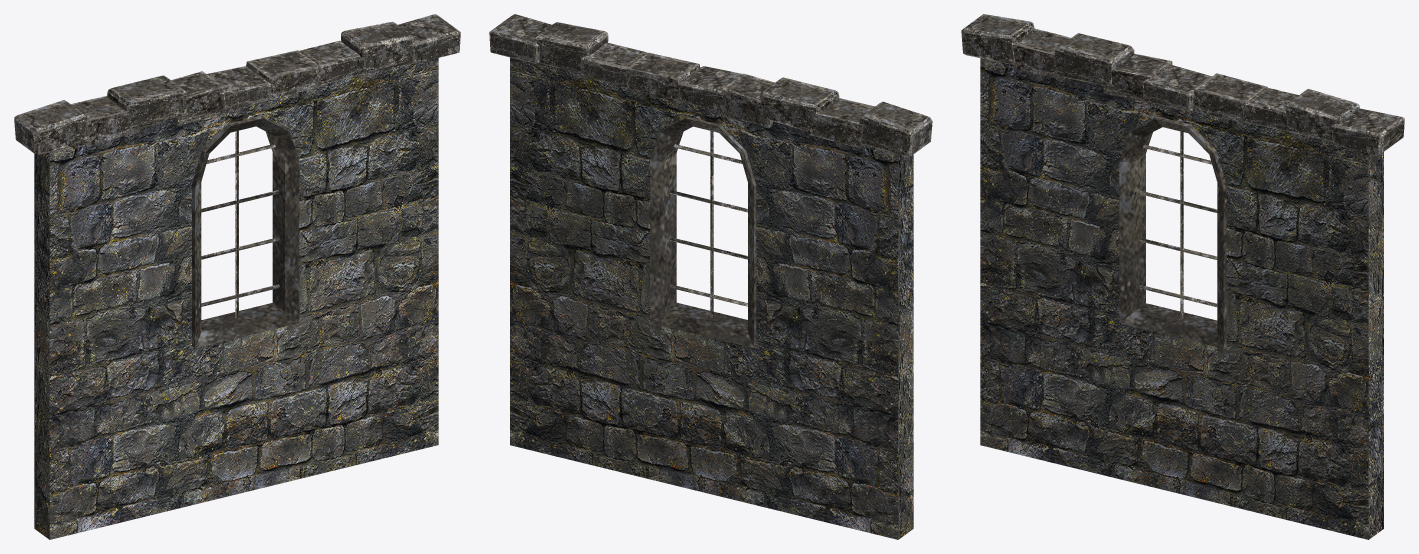
File: Swamp_ruin1_3.fbx
The picture shows the model from 3 angles, left to right: view 1: azimuth 30°, elevation 25°; view 2: azimuth 150°, elevation 25°; view 3: azimuth 330°, elevation 25°; orthographic projection.
Parts seen in each view (by area): view 1: PolySurface209; view 2: PolySurface209; view 3: PolySurface209.
Boxes of the visible parts, bbox=[...] form: PolySurface209: bbox=[14, 14, 460, 539]; PolySurface209: bbox=[489, 14, 932, 539]; PolySurface209: bbox=[961, 14, 1404, 539].
Size of the model in its own units: 6.76 by 6.4 by 0.7099.
